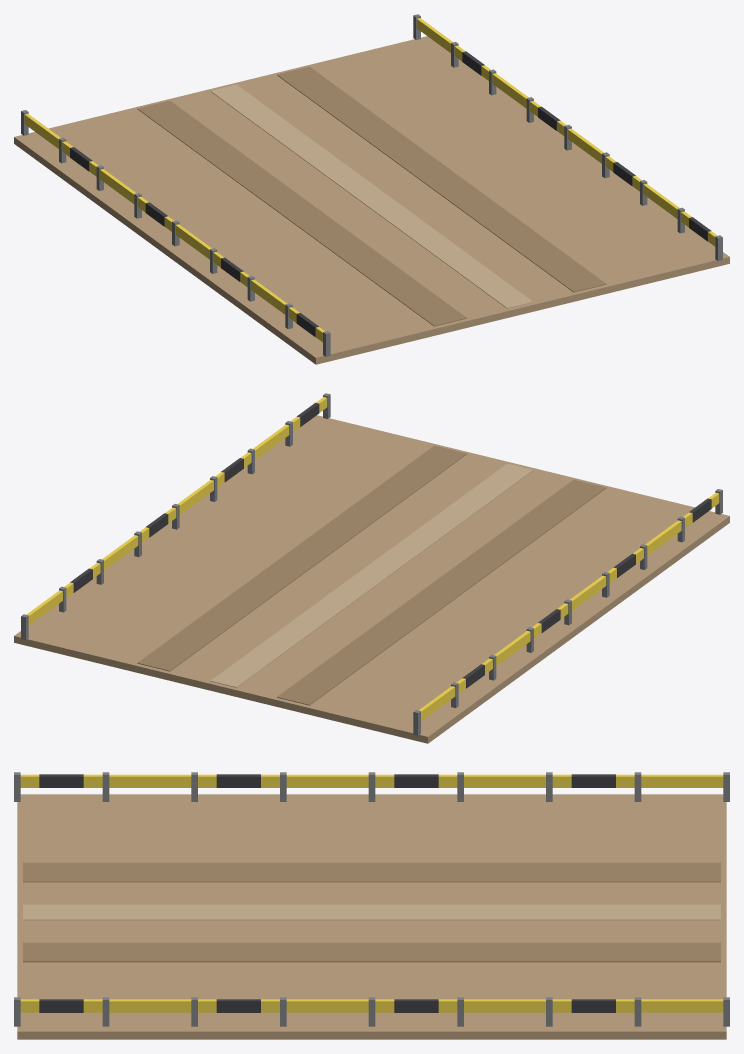
The model's file is wasteland_track_straight.glb.
The picture shows the model from 3 angles, top to bottom: view 1: azimuth 30°, elevation 25°; view 2: azimuth 150°, elevation 25°; view 3: azimuth 270°, elevation 25°; orthographic projection. The views are drawn at different scales.
Parts seen in each view (by area): view 1: Track_Straight; view 2: Track_Straight; view 3: Track_Straight.
Part boxes in pixels (x1=…): Track_Straight: x1=14, y1=14, x2=729, y2=364; Track_Straight: x1=14, y1=393, x2=729, y2=743; Track_Straight: x1=14, y1=772, x2=729, y2=1039.
Size of the model in its own units: 19 by 1.3 by 24.22.
